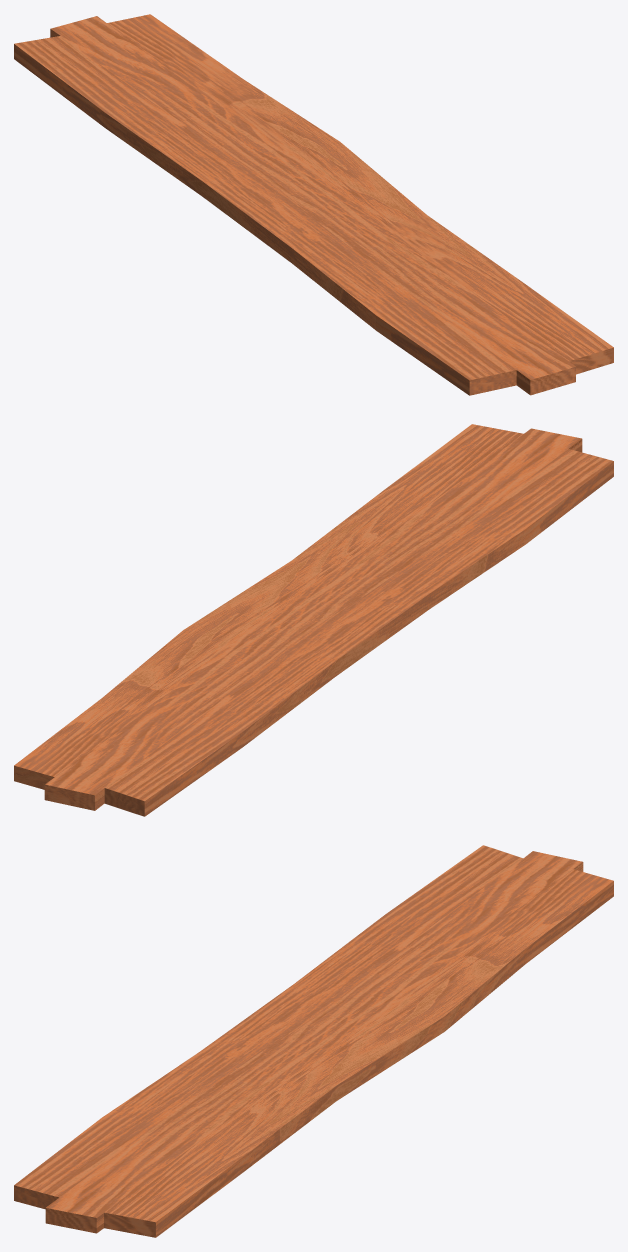
The model's file is planche_bois.glb.
The picture shows the model from 3 angles, top to bottom: view 1: azimuth 30°, elevation 25°; view 2: azimuth 150°, elevation 25°; view 3: azimuth 330°, elevation 25°; orthographic projection.
Visible parts, largest first — view 1: Cube; view 2: Cube; view 3: Cube.
Part boxes in pixels (x1,y1,x2,y2): Cube: (14, 14, 613, 395); Cube: (14, 424, 613, 816); Cube: (14, 845, 613, 1237).
Size of the model in its own units: 1 by 0.0974 by 5.54.
1 material, 1 textured.
